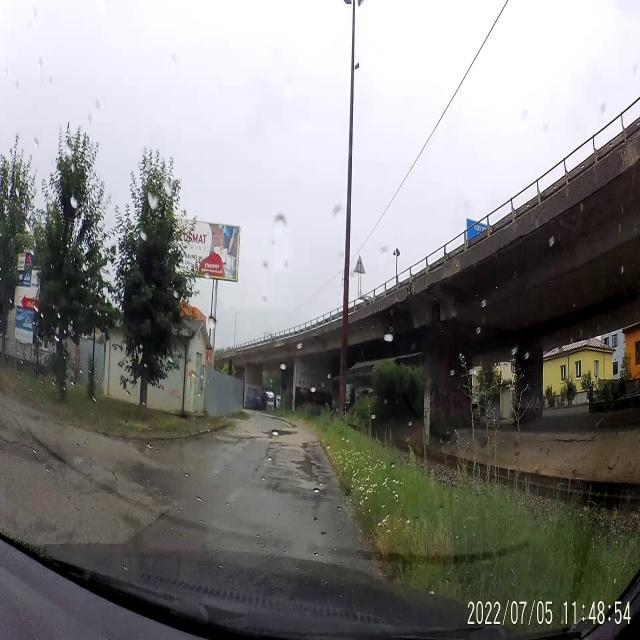Pothole: (292, 455, 322, 483), (300, 438, 312, 453), (316, 470, 331, 476)
